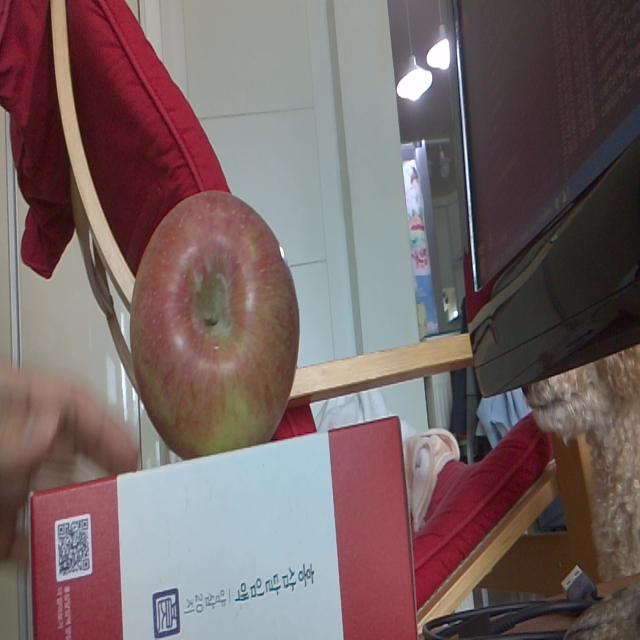apple: (128, 189, 302, 462)
